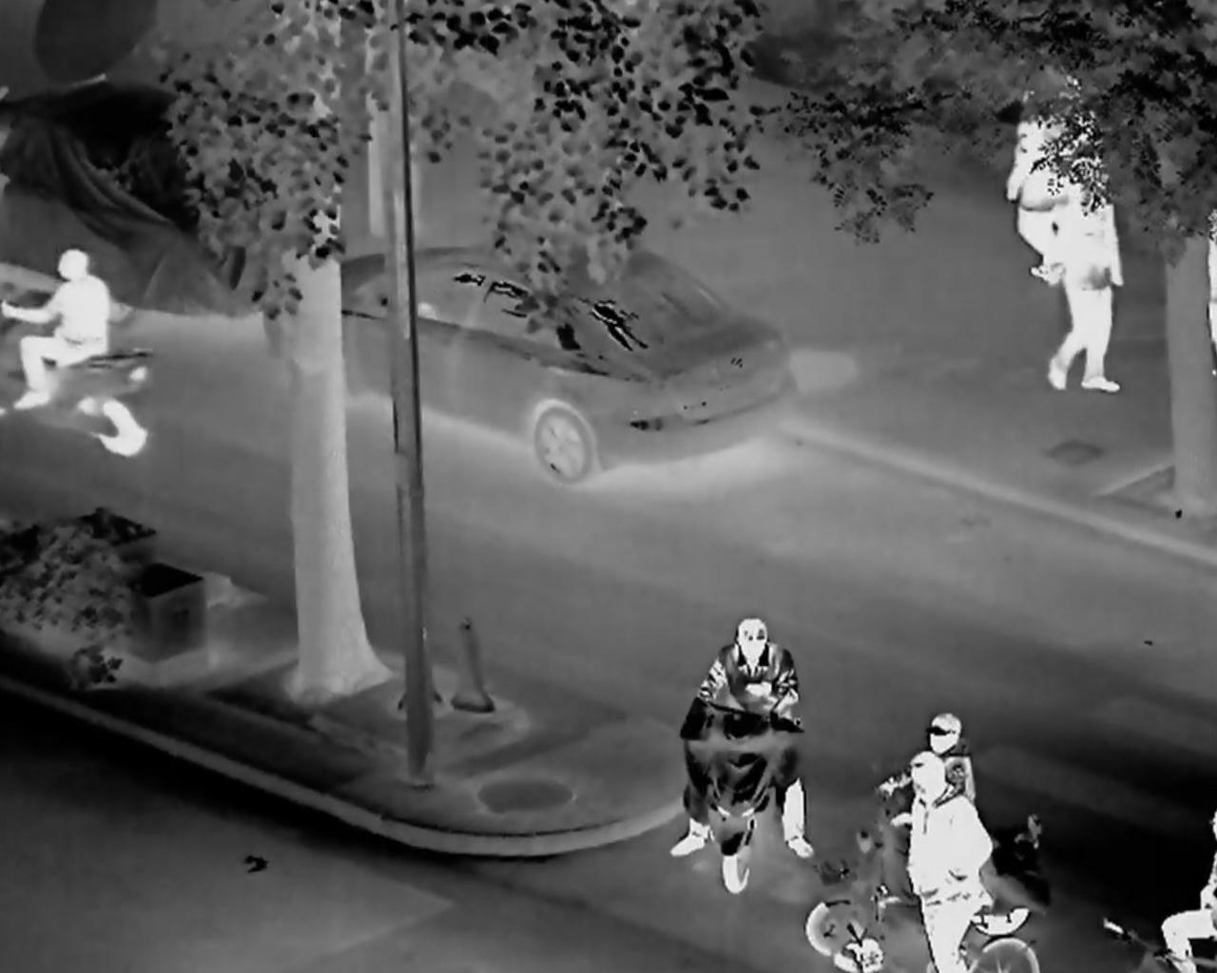person: (679, 607, 819, 857), (875, 754, 1019, 973), (4, 249, 141, 423), (1043, 164, 1140, 403), (1008, 59, 1105, 279), (877, 697, 969, 826), (1156, 801, 1216, 973)
